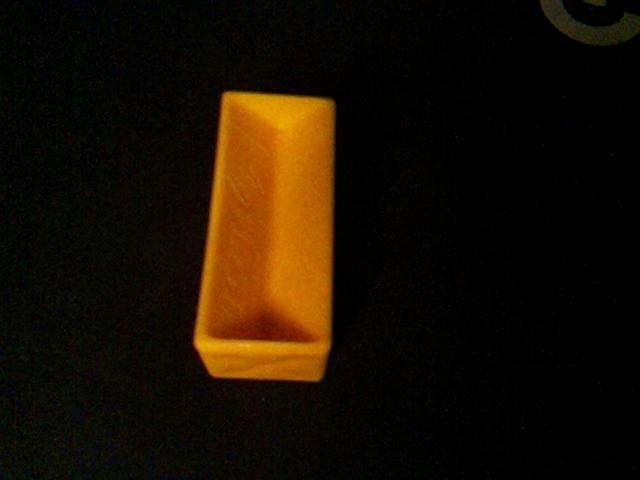yellow: (192, 89, 337, 384)
